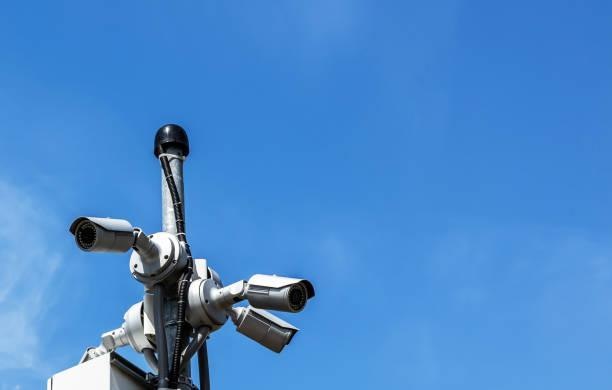camera: (212, 301, 317, 373), (58, 201, 148, 273), (244, 264, 319, 323)
